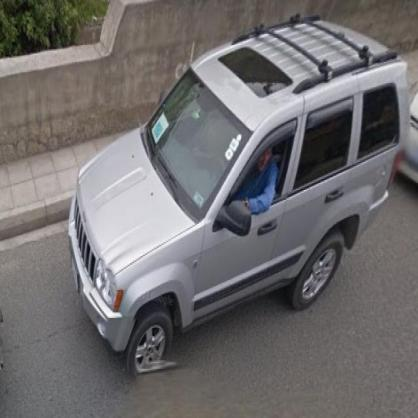car: (68, 16, 407, 370)
